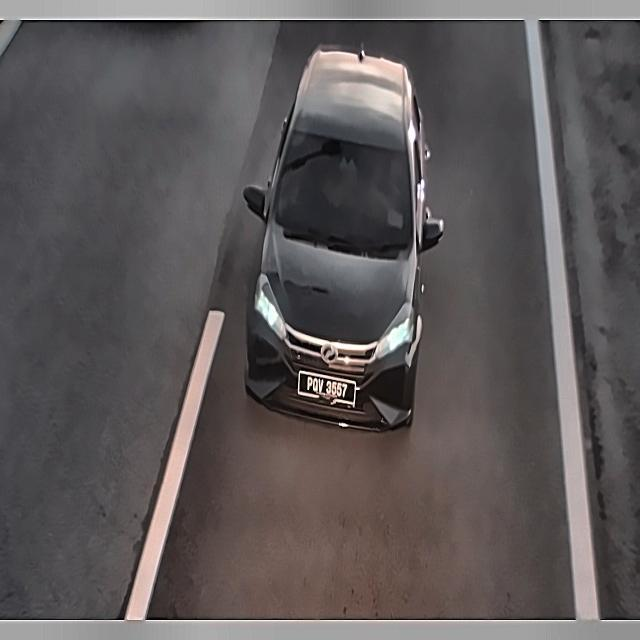car: (297, 360, 357, 409)
